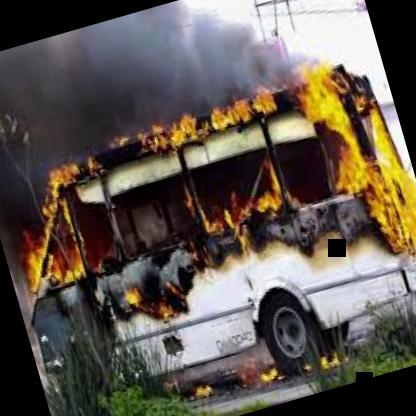fire: (13, 62, 416, 400)
